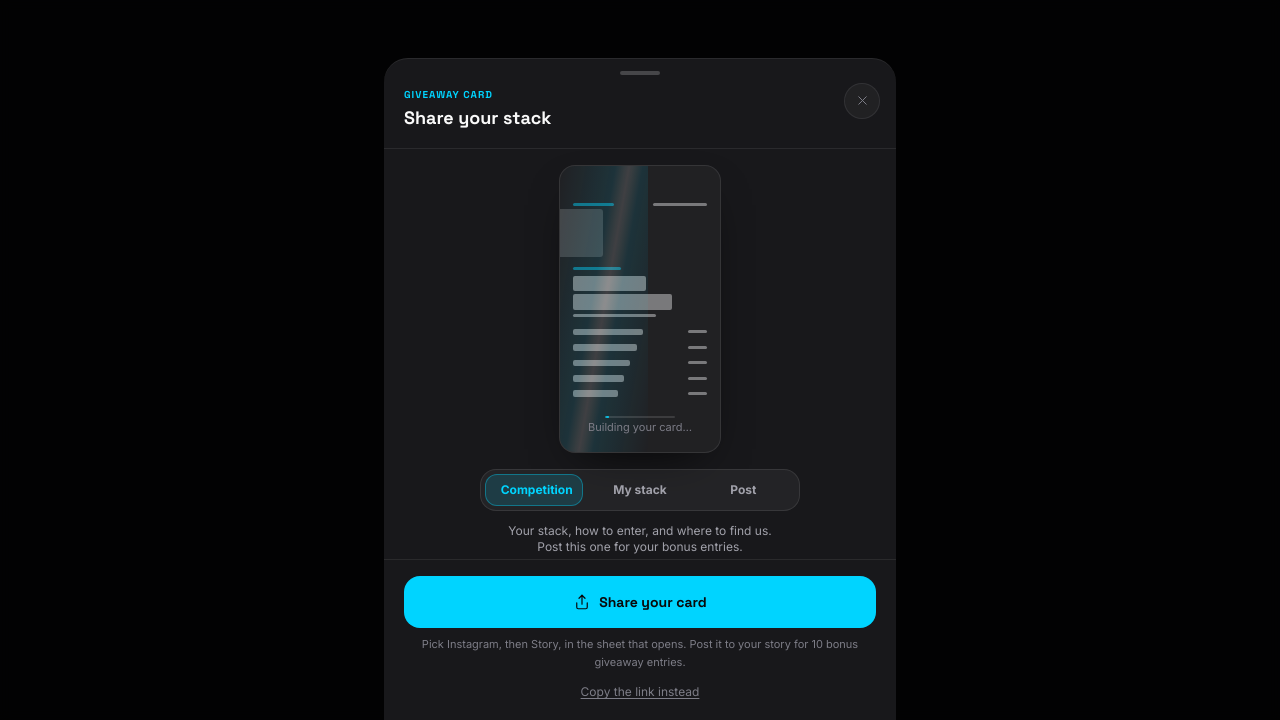
Test: after a successful share › credits the bonus to the entry this browser made, without asking for anything
Check: the tab "Competition" is shown, box [485,474,588,506]
Click the button "Share your card" at (640, 602), box [404,576,876,628]
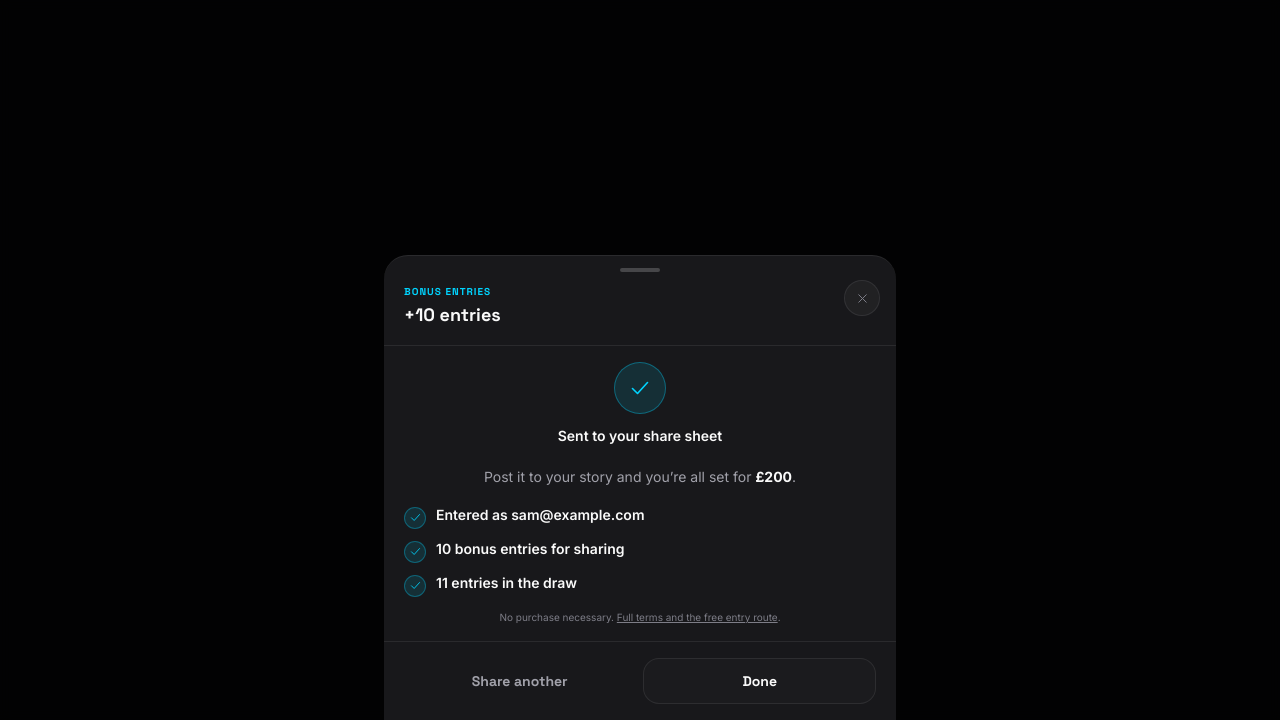
Check: the text "Entered as sam@example.com" is shown, box [436,505,644,525]
Check: the text "11 entries in the draw" is shown, box [436,573,577,593]
